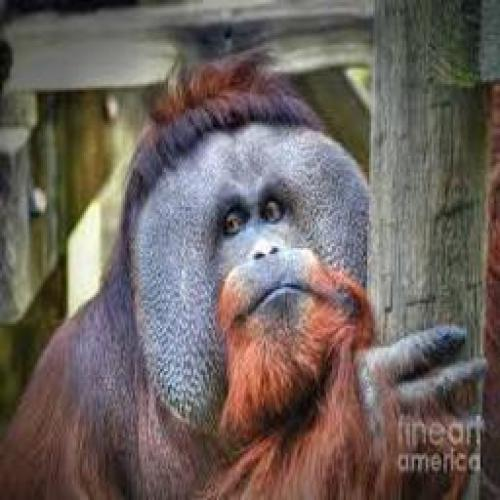orangutan-endangered: (0, 67, 473, 495)
